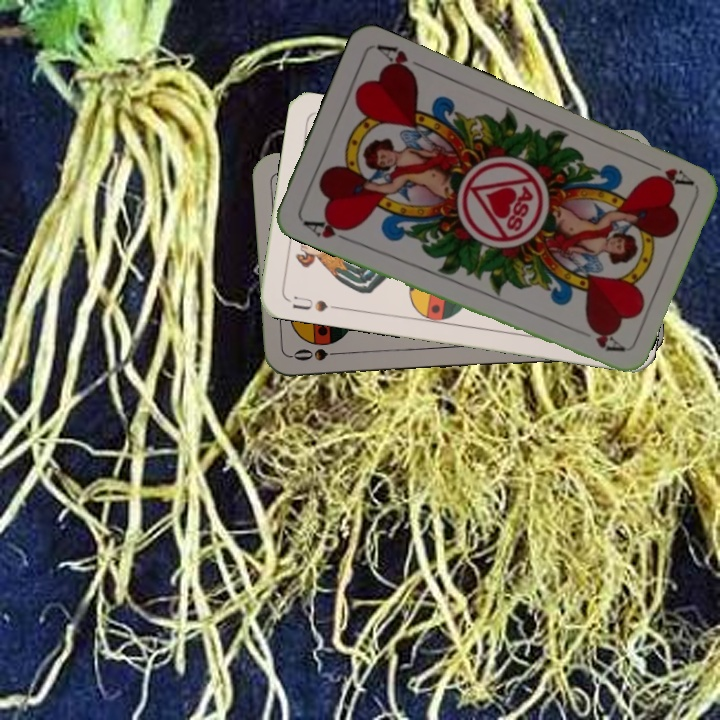HA: (639, 156, 695, 191), (299, 214, 355, 245)
SO: (289, 345, 348, 363)
SU: (288, 292, 342, 315)
